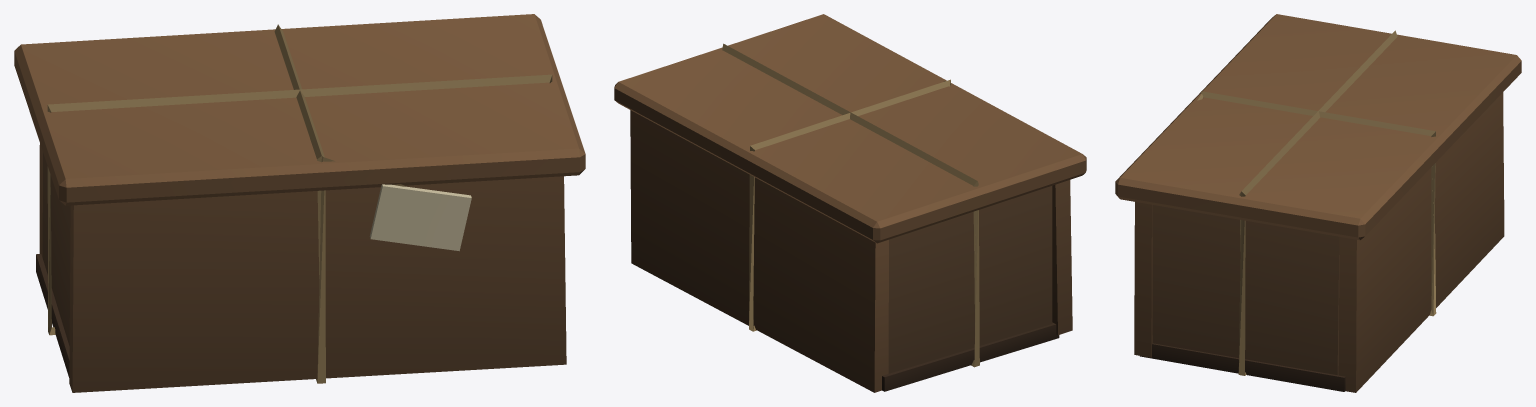
The model's file is ph_item_bone_box_full.glb.
3 renders of one model, left to right at view 1: azimuth 30°, elevation 25°; view 2: azimuth 150°, elevation 25°; view 3: azimuth 270°, elevation 25°, orthographic. The views are drawn at different scales.
Parts seen in each view (by area): view 1: ph_item_bone_box_full; view 2: ph_item_bone_box_full; view 3: ph_item_bone_box_full.
Boxes of the visible parts, bbox=[...] form: ph_item_bone_box_full: bbox=[14, 14, 585, 392]; ph_item_bone_box_full: bbox=[614, 14, 1086, 392]; ph_item_bone_box_full: bbox=[1115, 14, 1521, 392].
Size of the model in its own units: 0.3738 by 0.1551 by 0.3075.
